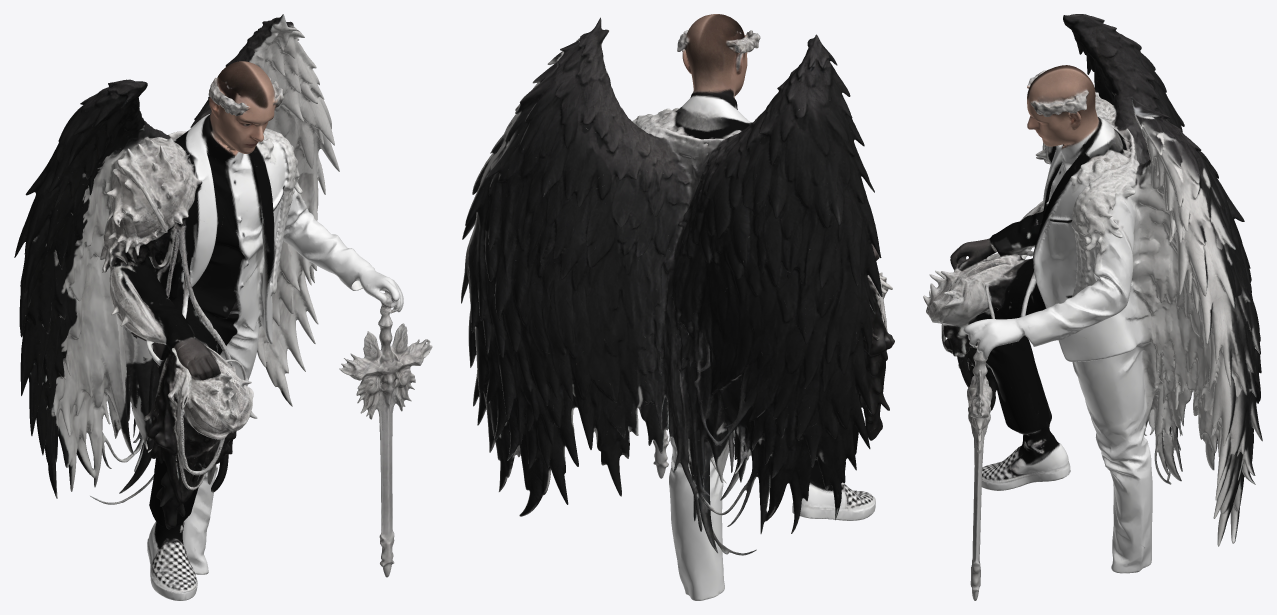
The model's file is 5opka.glb.
3 views of the same model, side by side, from view 1: azimuth 30°, elevation 25°; view 2: azimuth 150°, elevation 25°; view 3: azimuth 270°, elevation 25° (orthographic). The views are drawn at different scales.
Size of the model in its own units: 1.33 by 1.88 by 1.12.
1 material, 1 textured.
